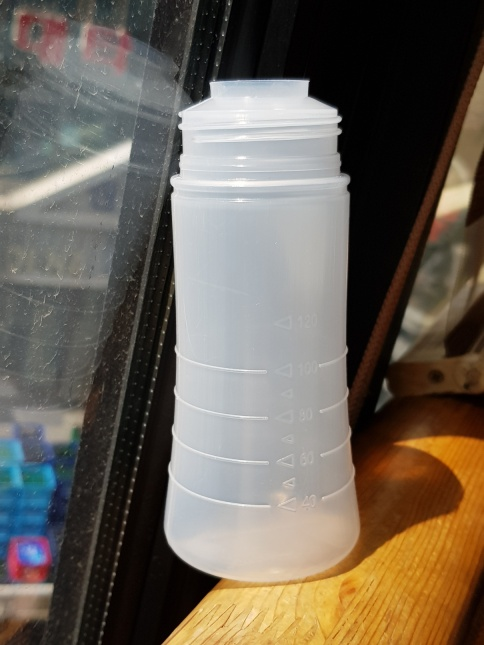Plastic: (162, 72, 364, 589)
